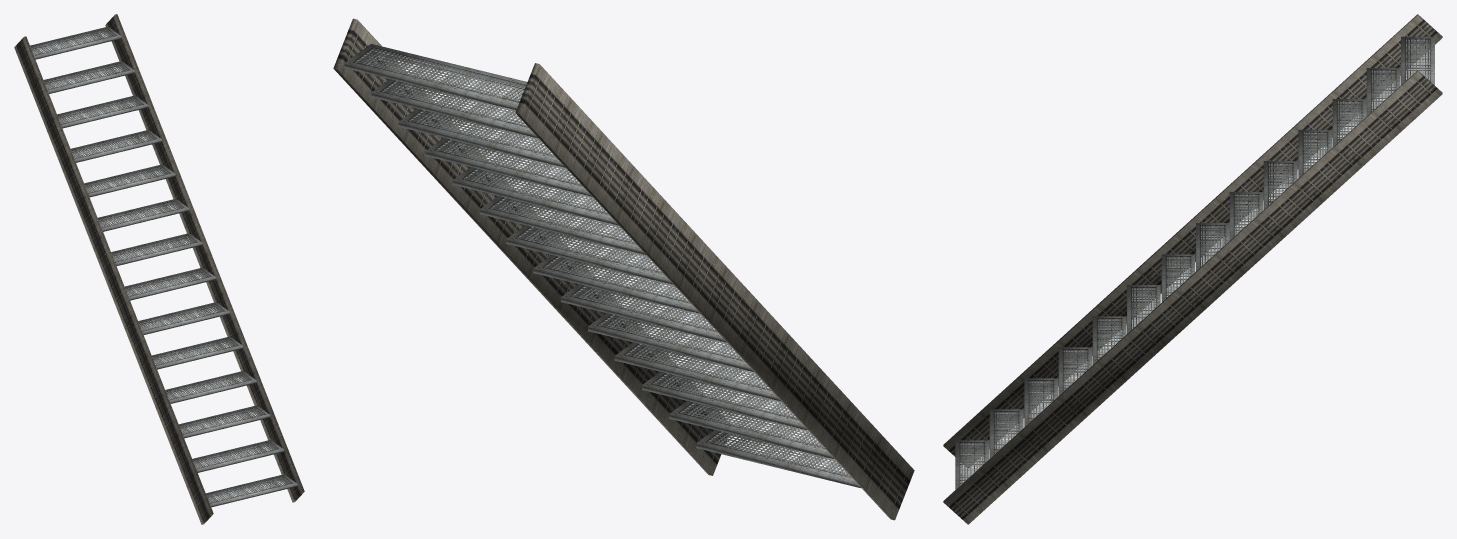
The model's file is ladder2.fbx.
The picture shows the model from 3 angles, left to right: view 1: azimuth 30°, elevation 25°; view 2: azimuth 150°, elevation 25°; view 3: azimuth 270°, elevation 25°; orthographic projection. The views are drawn at different scales.
Parts seen in each view (by area): view 1: Mesh; view 2: Mesh; view 3: Mesh.
Part boxes in pixels (box(x1,y1,x2,y2)): Mesh: box(14, 14, 304, 524); Mesh: box(333, 18, 914, 520); Mesh: box(943, 14, 1442, 524).
Bounding box in the file's own units: 71.54 × 262 × 262.
